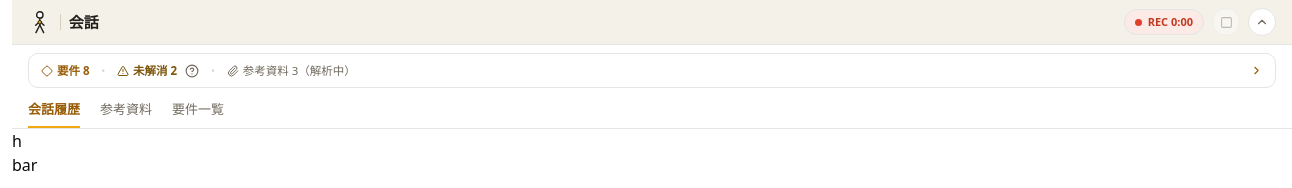
Test: ConversationShell（共通シェル） › ヘッダーを最小化するとミニ状況を隠し、開くと戻る（トグル）
The image size is (1292, 188).
Expected: the button "要件 8" is shown, left=41, top=62, right=90, bottom=79
Click the button named "ヘッダーを最小化" at (1262, 22), box left=1248, top=8, right=1276, bottom=36
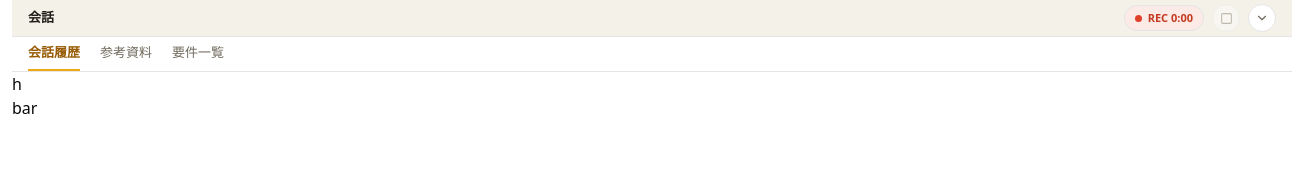
Expected: the tab "会話履歴" is shown, left=28, top=37, right=80, bottom=70
Expected: the button "要件 8" is gone
Click the button named "ヘッダーを開く" at (1262, 18), box left=1248, top=4, right=1276, bottom=32
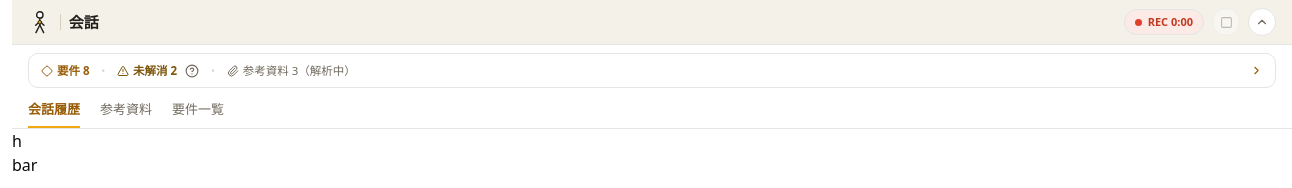
Expected: the button "要件 8" is shown, left=41, top=62, right=90, bottom=79
